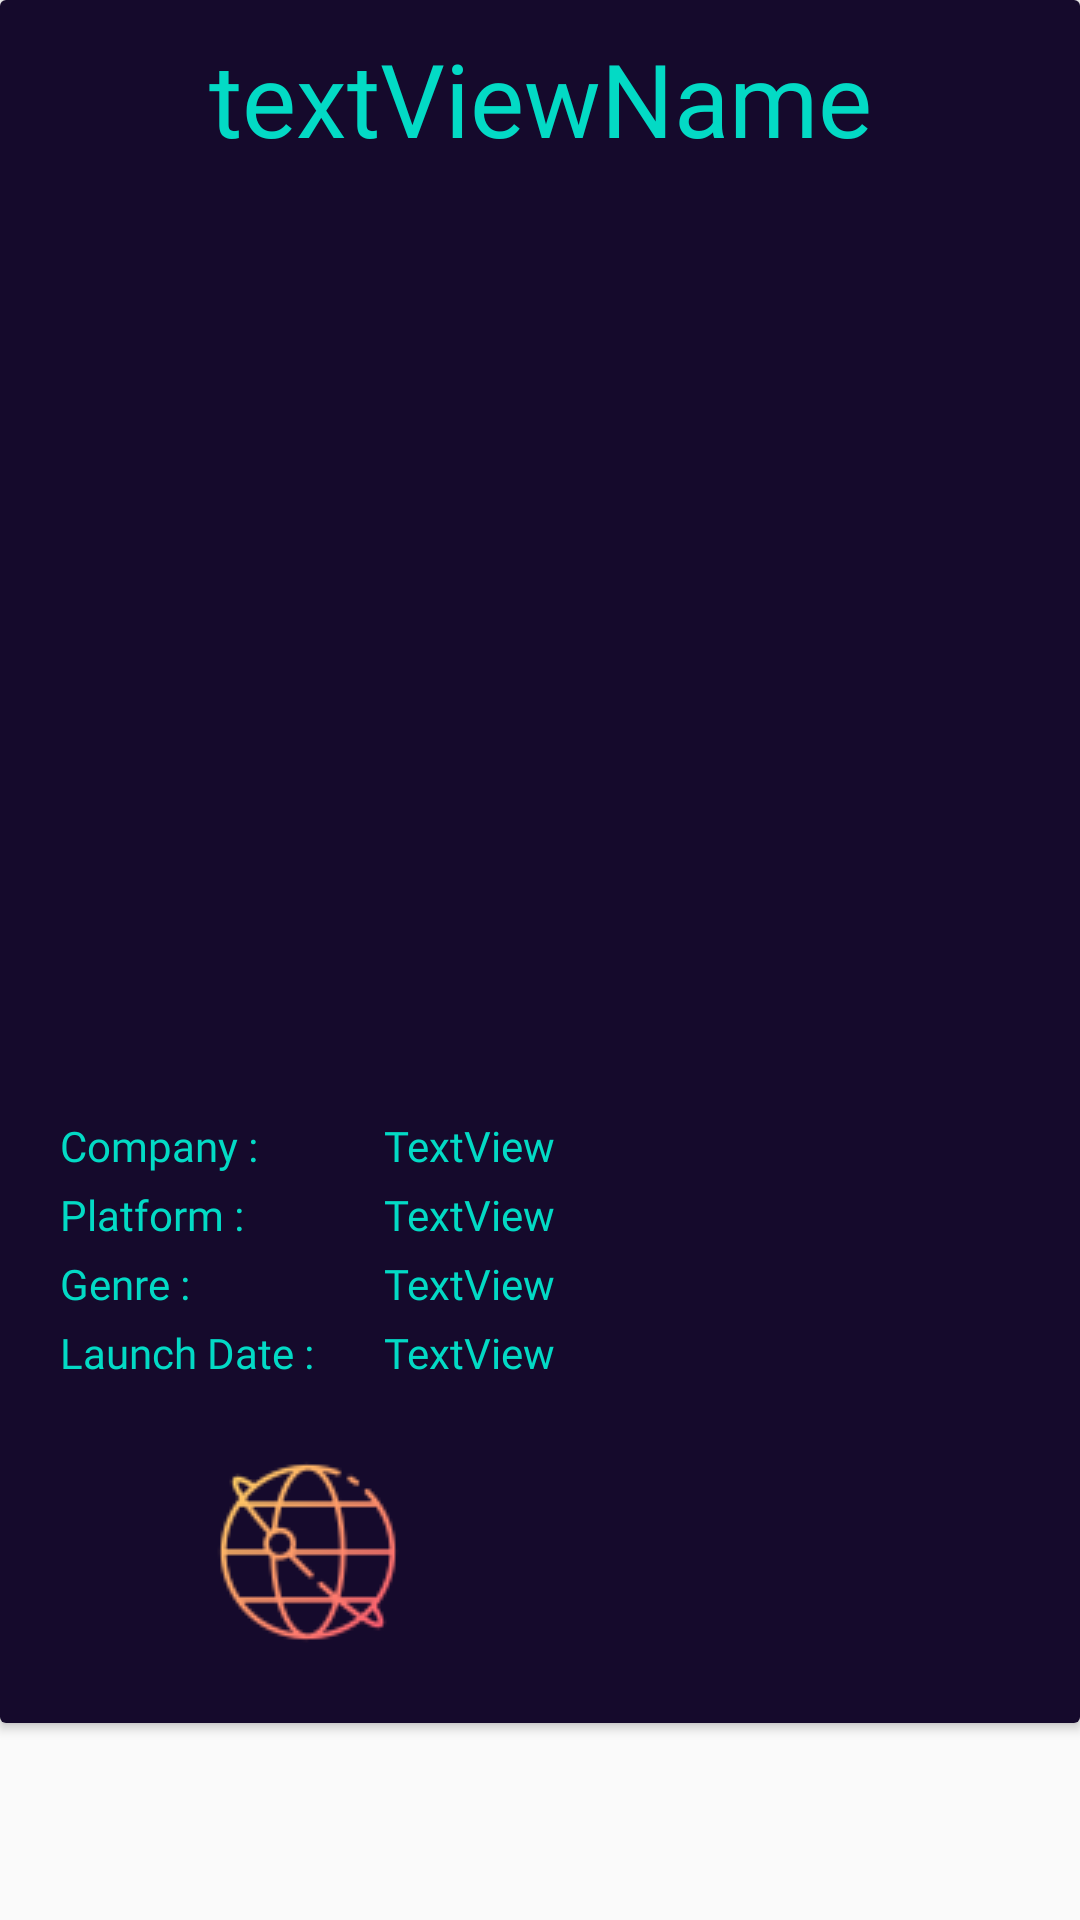

Screen size 1080 × 1920. Icon name, then its center in pixels as (x,y):
internet: (308,1552)
